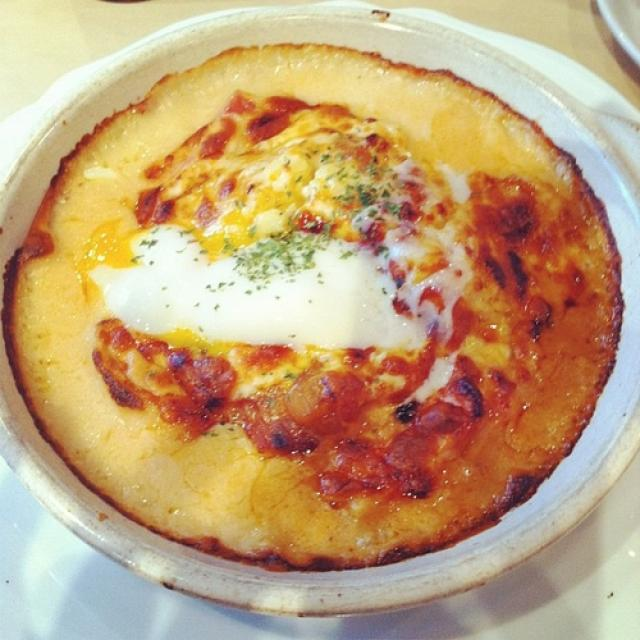米饭主食: (5, 10, 631, 611)
